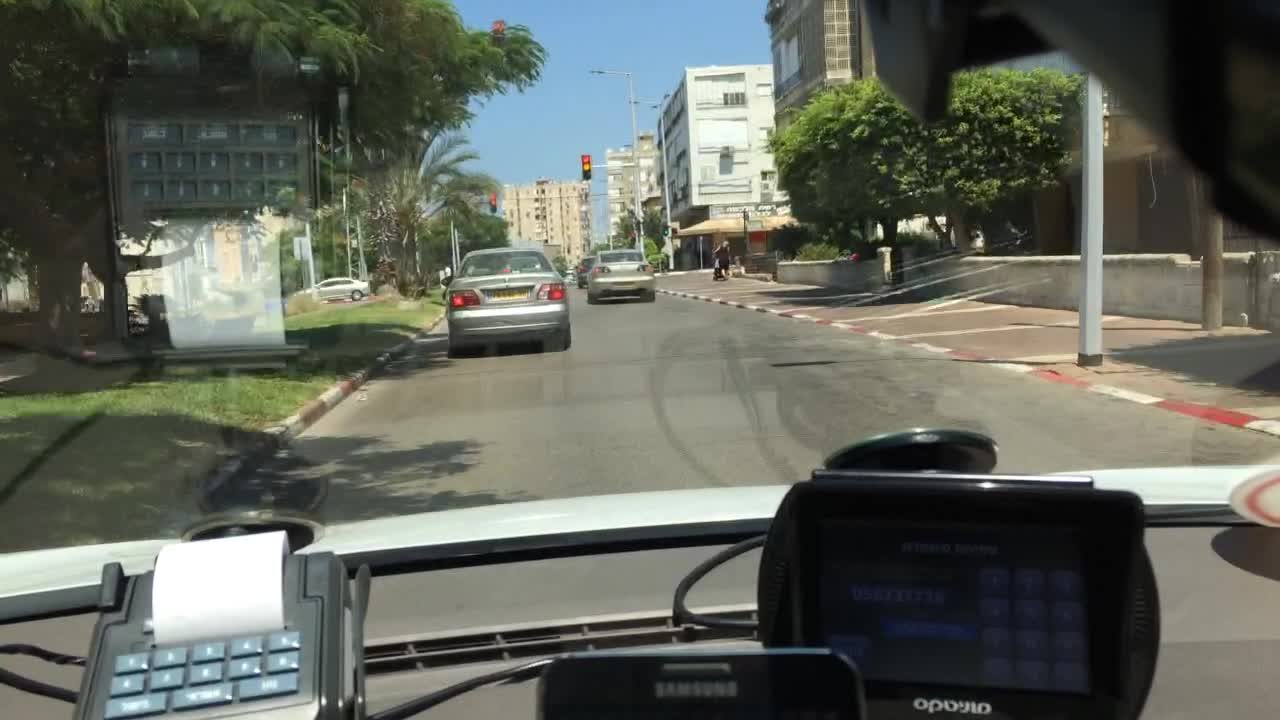car: (442, 247, 571, 358), (586, 247, 656, 303), (293, 276, 368, 302), (574, 254, 600, 286), (969, 228, 986, 250), (564, 274, 578, 286)
person: (710, 238, 731, 281), (440, 262, 450, 305)
traffic light: (580, 153, 592, 179), (486, 190, 499, 213), (661, 221, 669, 235)
traffic sign: (292, 235, 309, 260), (349, 237, 359, 249)
